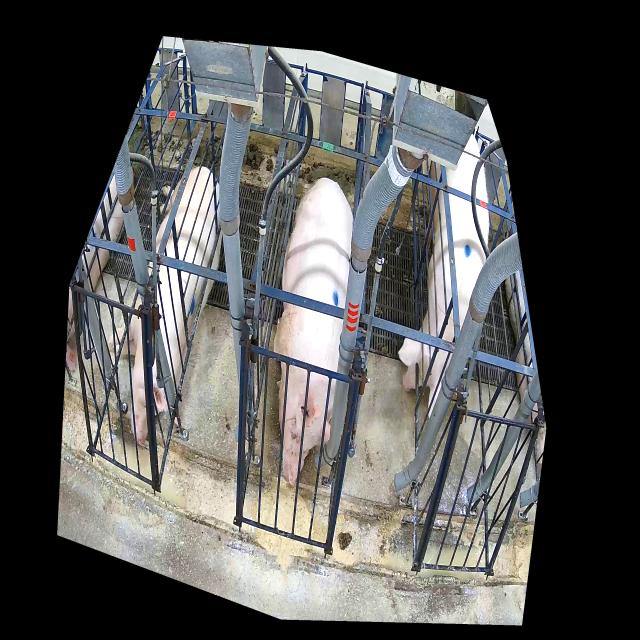pig: (107, 165, 222, 447), (398, 134, 488, 418), (273, 177, 353, 485)
